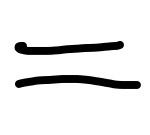eqv: (14, 42, 141, 89)
